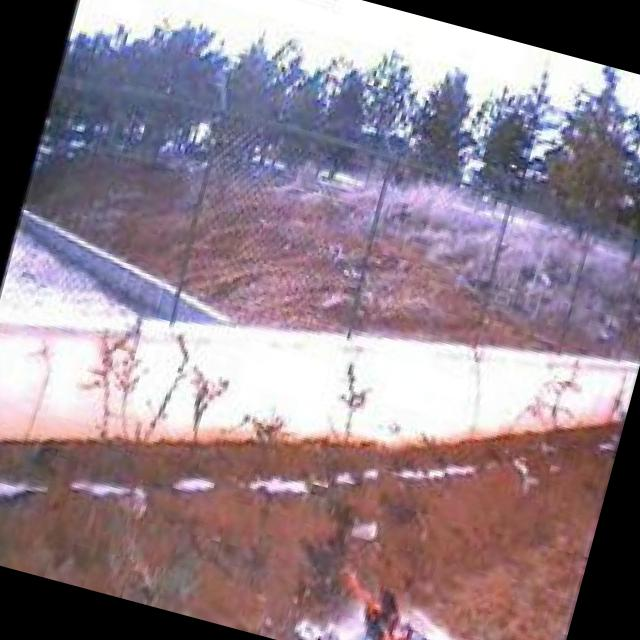Fire: (322, 555, 440, 640)
